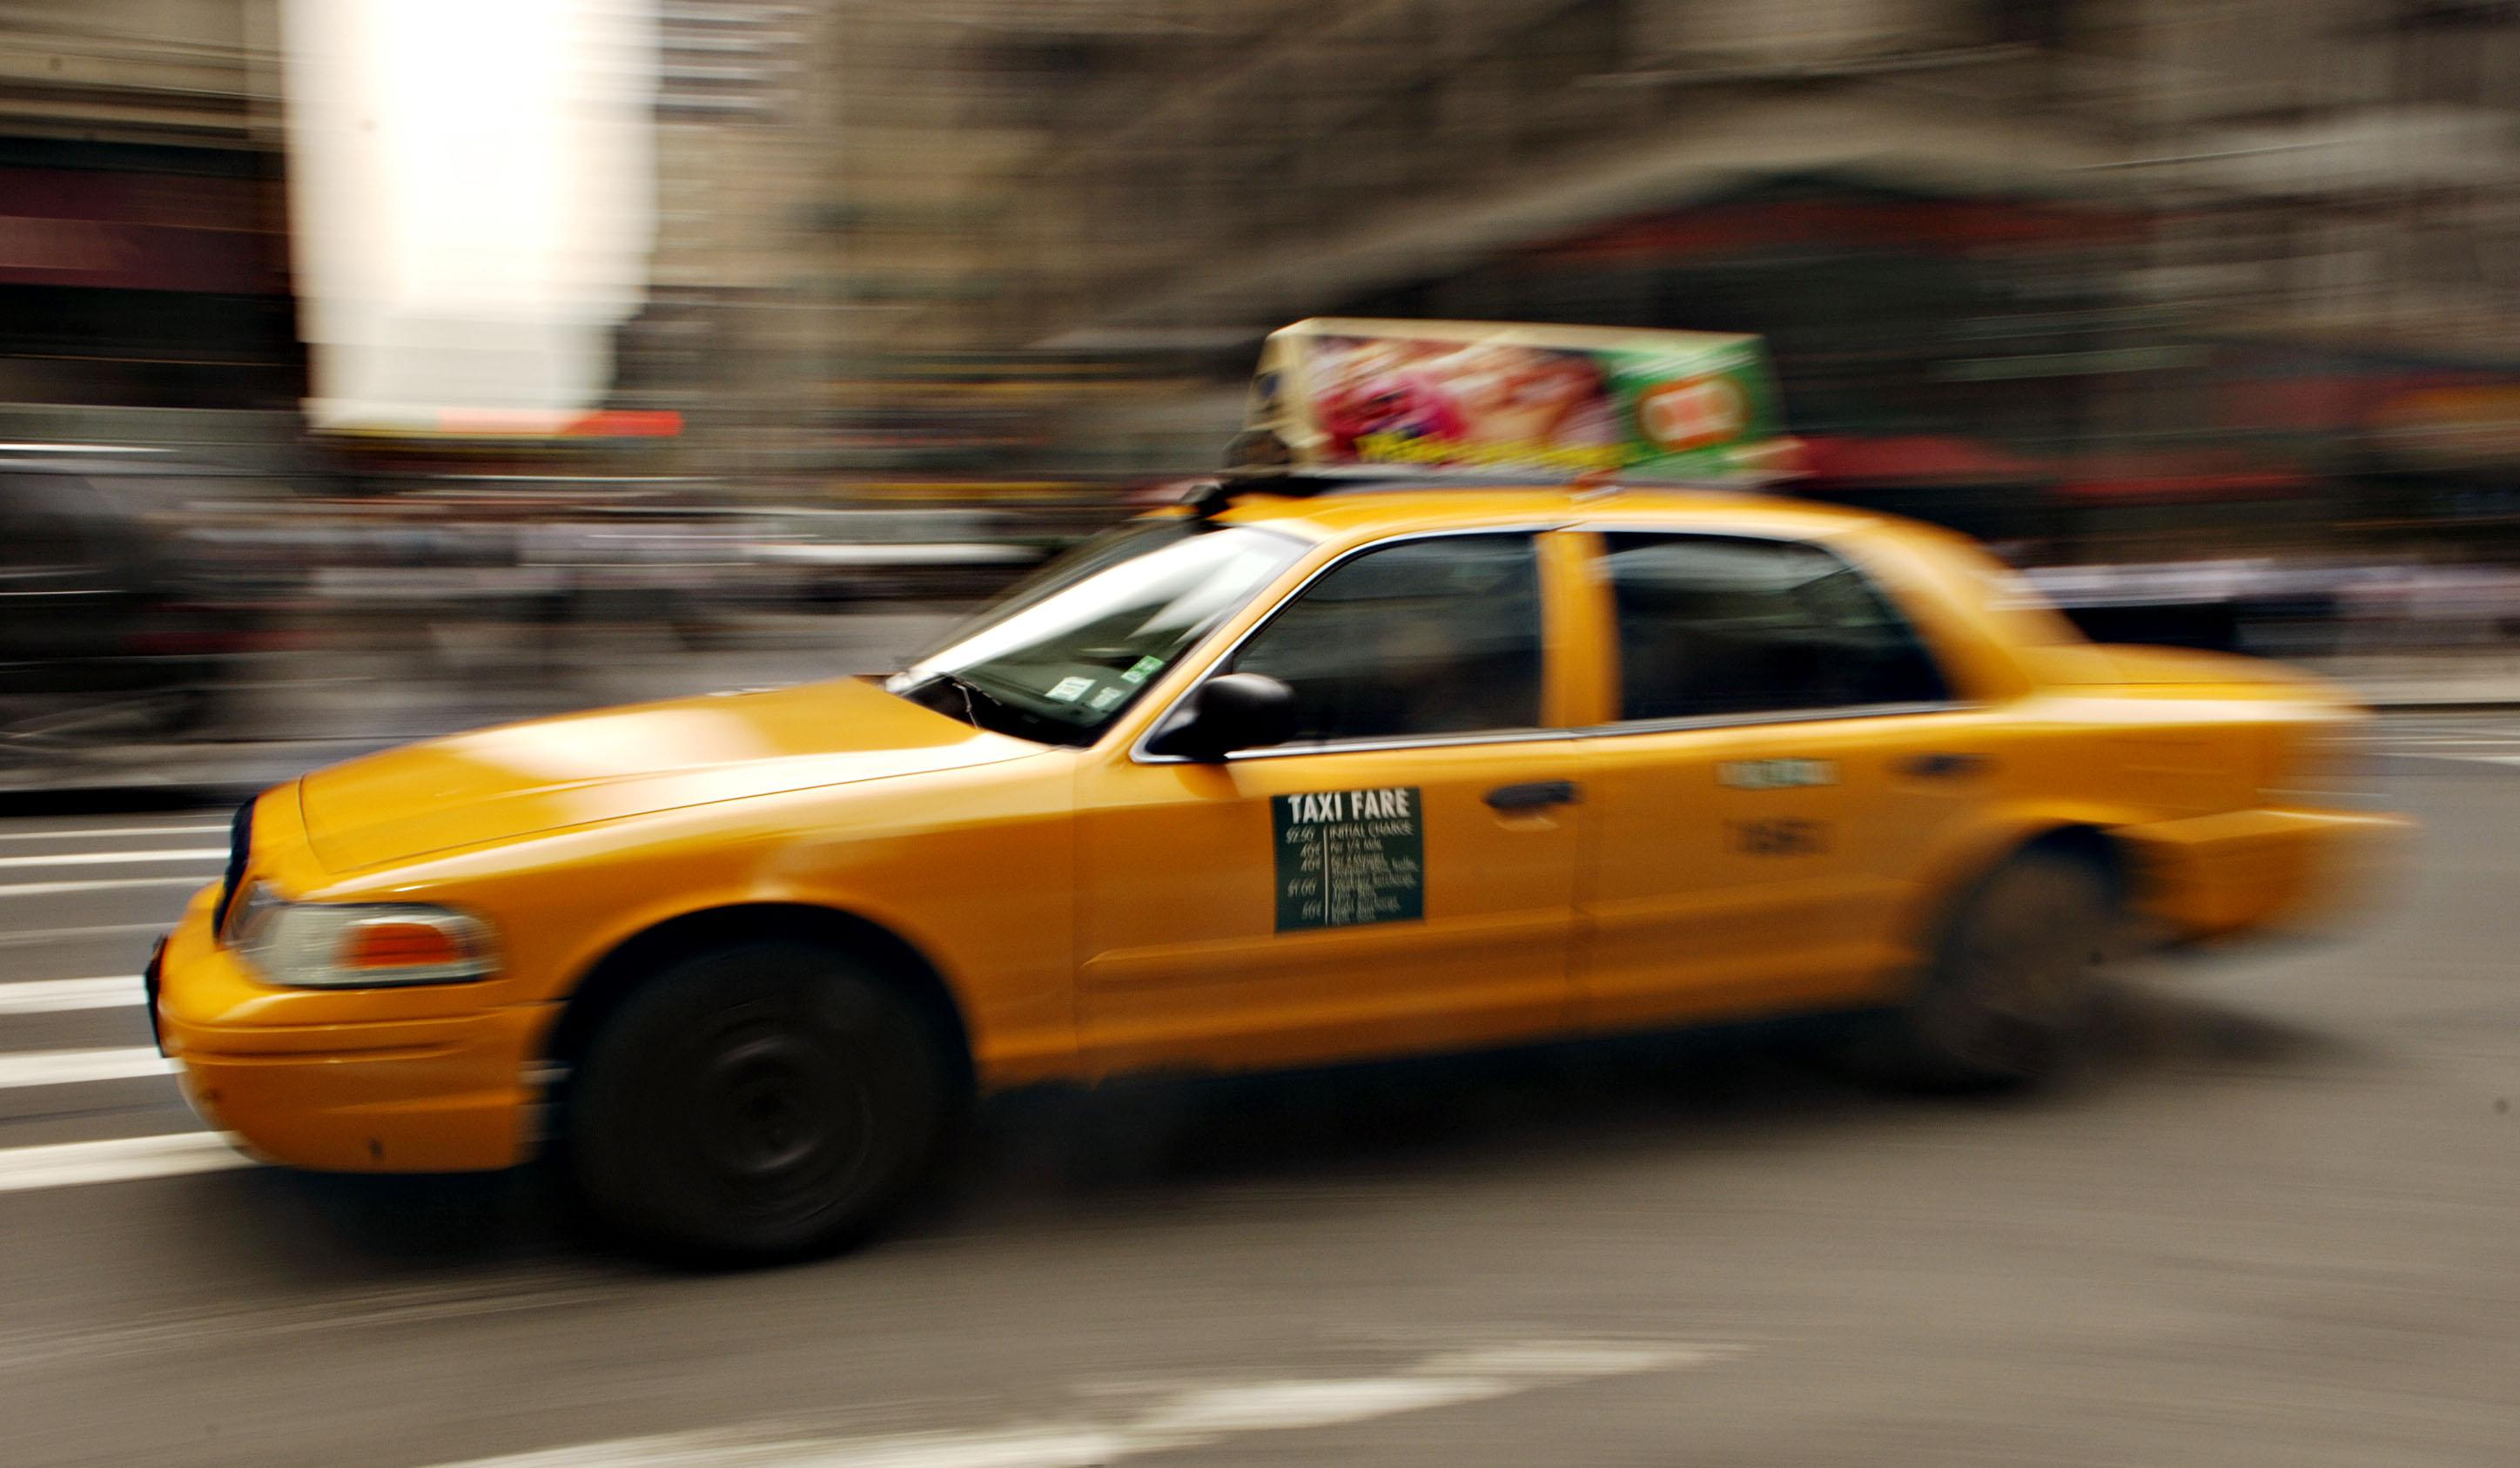taxi: (129, 337, 2441, 1180)
